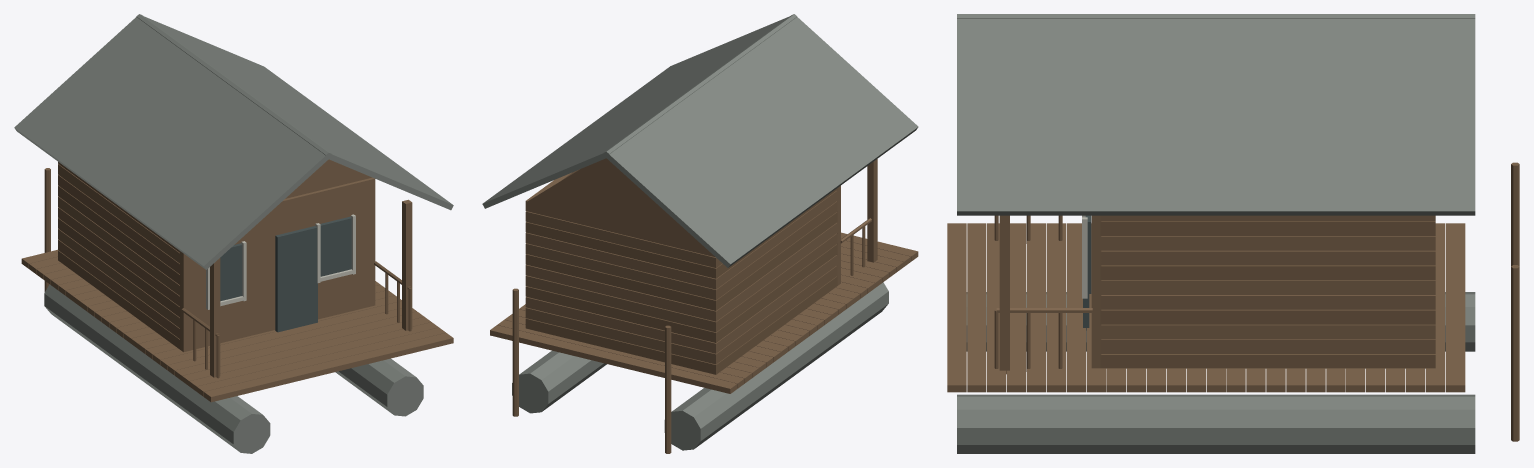
Rendered from thai_raft.glb.
3 views of the same model, side by side, from view 1: azimuth 30°, elevation 25°; view 2: azimuth 150°, elevation 25°; view 3: azimuth 270°, elevation 25° (orthographic). The views are drawn at different scales.
Visible parts, largest first — view 1: thai_raft; view 2: thai_raft; view 3: thai_raft.
Part boxes in pixels (x1=…): thai_raft: x1=14, y1=14, x2=453, y2=453; thai_raft: x1=482, y1=14, x2=918, y2=453; thai_raft: x1=947, y1=14, x2=1519, y2=453.
Size of the model in its own units: 4.95 by 5.34 by 7.18.
